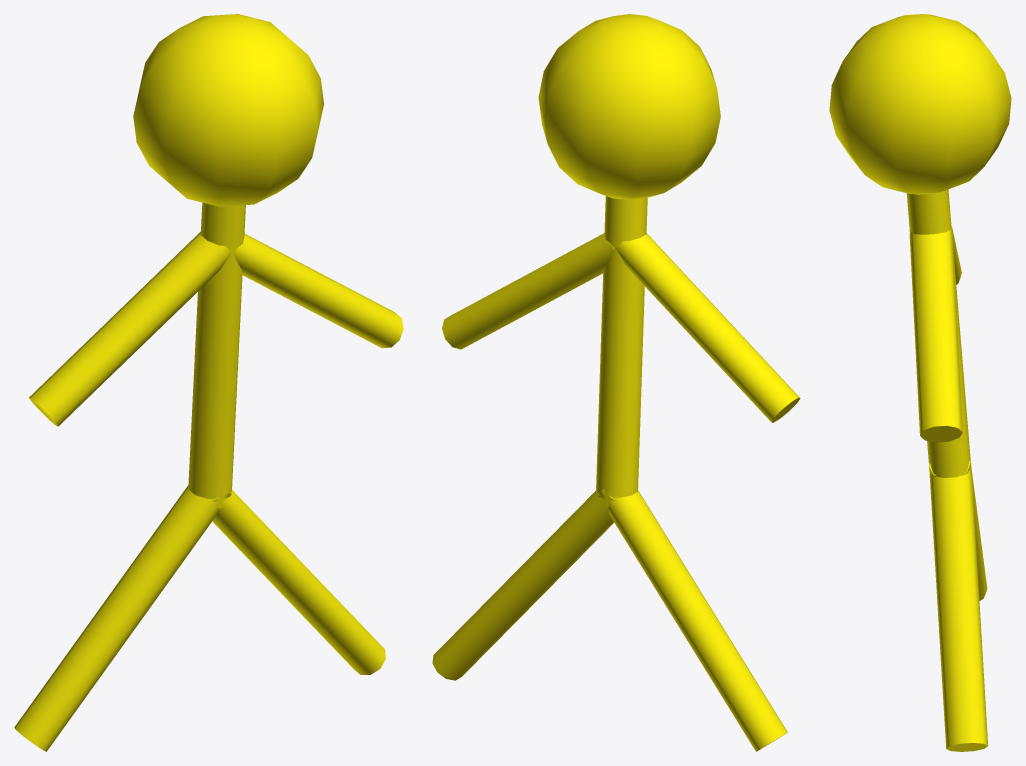
Rendered from Stick.glb.
3 views of the same model, side by side, from view 1: azimuth 30°, elevation 25°; view 2: azimuth 150°, elevation 25°; view 3: azimuth 270°, elevation 25° (orthographic). The views are drawn at different scales.
Parts seen in each view (by area): view 1: mesh_id9, mesh_id6, mesh_id8, mesh_id4, mesh_id5, mesh_id7; view 2: mesh_id9, mesh_id8, mesh_id6, mesh_id4, mesh_id5, mesh_id7; view 3: mesh_id9, mesh_id5, mesh_id7, mesh_id8, mesh_id6.
Part boxes in pixels (x1=…): mesh_id9: x1=133, y1=14, x2=323, y2=206; mesh_id6: x1=14, y1=485, x2=231, y2=751; mesh_id8: x1=188, y1=202, x2=245, y2=507; mesh_id4: x1=29, y1=231, x2=231, y2=426; mesh_id5: x1=212, y1=490, x2=385, y2=674; mesh_id7: x1=233, y1=234, x2=403, y2=348; mesh_id9: x1=538, y1=14, x2=720, y2=199; mesh_id8: x1=596, y1=196, x2=647, y2=506; mesh_id6: x1=596, y1=489, x2=787, y2=751; mesh_id4: x1=616, y1=233, x2=800, y2=422; mesh_id5: x1=432, y1=491, x2=614, y2=680; mesh_id7: x1=442, y1=233, x2=614, y2=349; mesh_id9: x1=829, y1=14, x2=1011, y2=194; mesh_id5: x1=929, y1=463, x2=988, y2=751; mesh_id7: x1=909, y1=229, x2=962, y2=442; mesh_id8: x1=906, y1=189, x2=971, y2=477; mesh_id6: x1=928, y1=460, x2=987, y2=600.
Bounding box in the file's own units: 0.2773 × 0.5118 × 0.1279.
6 materials, 6 textured.
